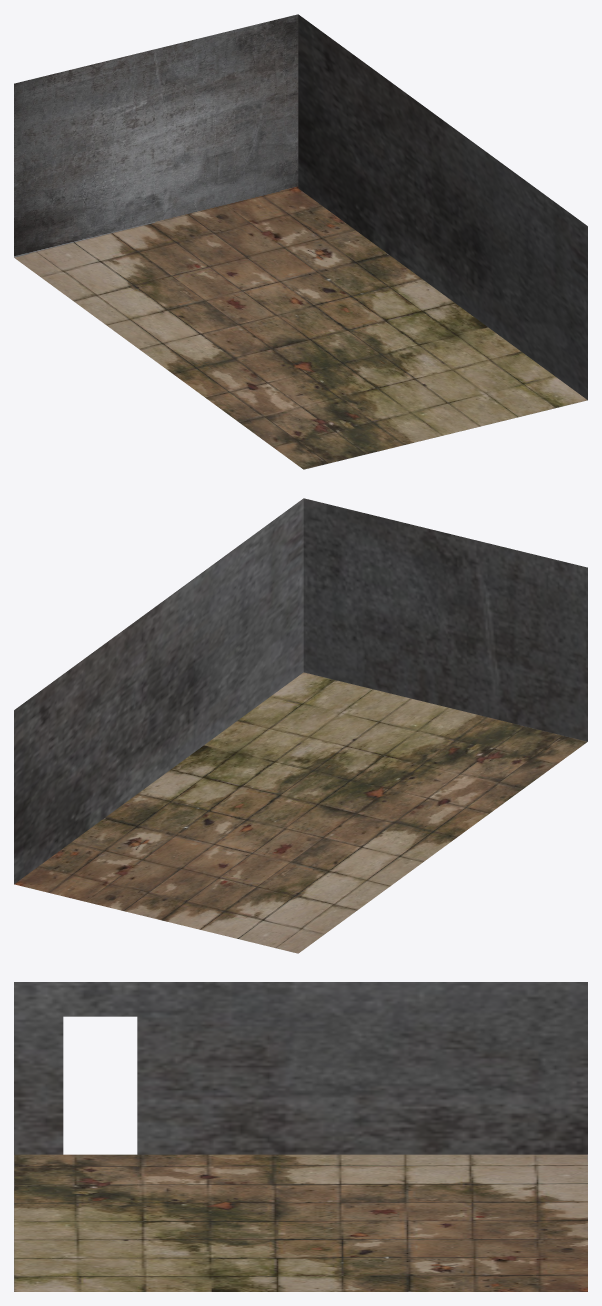
The model's file is AutopsyRoom.glb.
The picture shows the model from 3 angles, top to bottom: view 1: azimuth 30°, elevation 25°; view 2: azimuth 150°, elevation 25°; view 3: azimuth 270°, elevation 25°; orthographic projection.
Parts seen in each view (by area): view 1: pCube1; view 2: pCube1; view 3: pCube1.
Boxes of the visible parts, bbox=[...] form: pCube1: bbox=[14, 14, 587, 469]; pCube1: bbox=[14, 498, 587, 953]; pCube1: bbox=[14, 982, 587, 1291].
Bounding box in the file's own units: 1 × 0.5851 × 1.77.
Materials: 1 (1 with a texture image).
